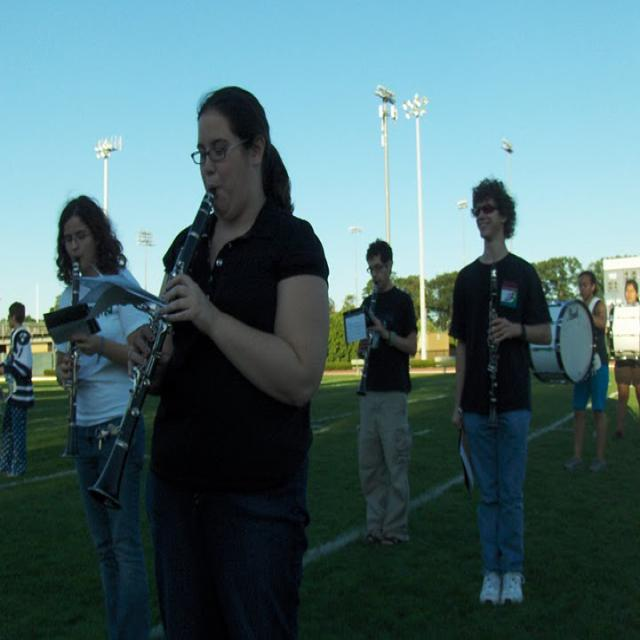clarinet: (83, 179, 220, 518), (58, 250, 84, 464), (481, 262, 500, 437), (354, 281, 382, 399)
